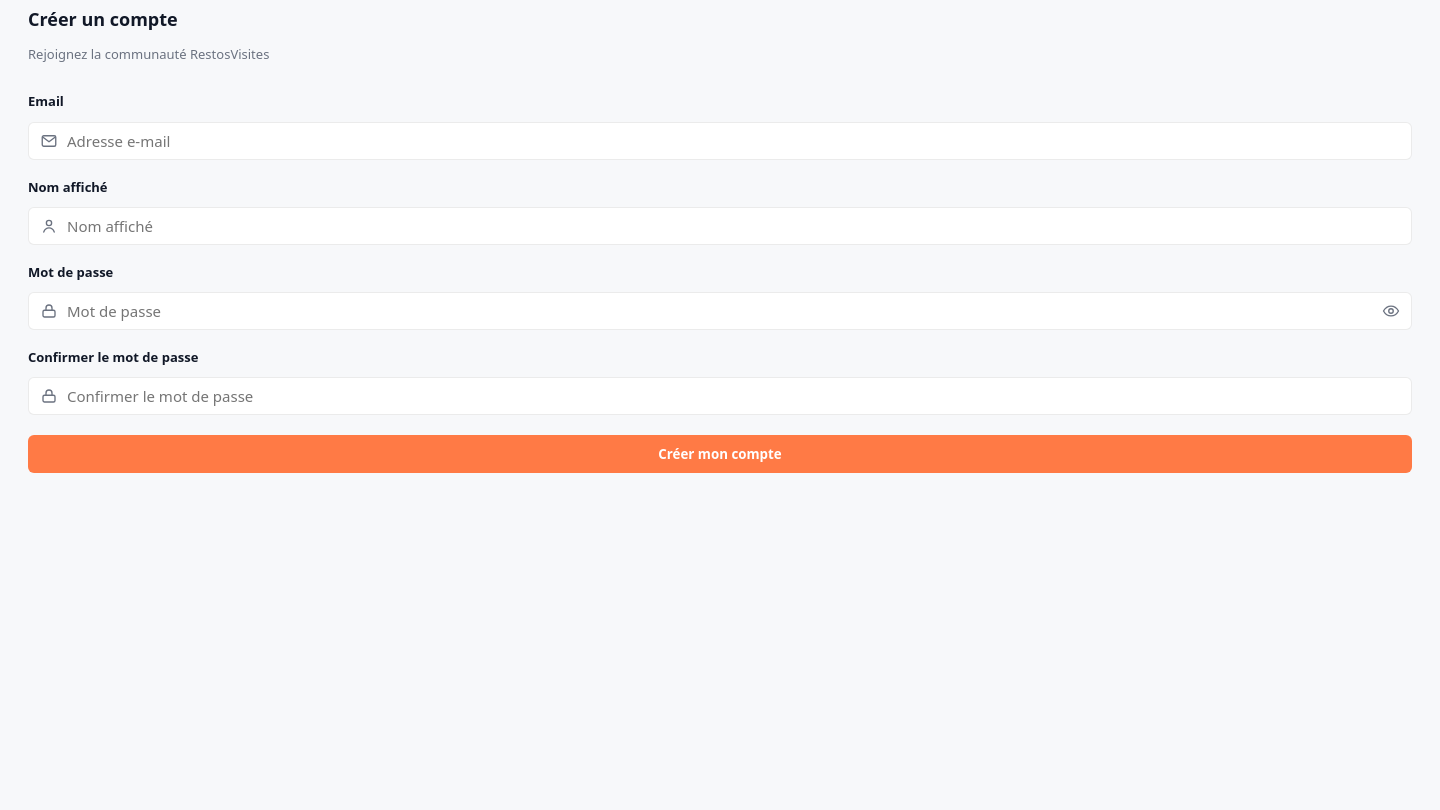
Test: RegisterPage › affiche les règles de mot de passe non respectées en direct
Type "court" into the password field labelled "Mot de passe" at (720, 311), box x1=28 y1=292 x2=1412 y2=330
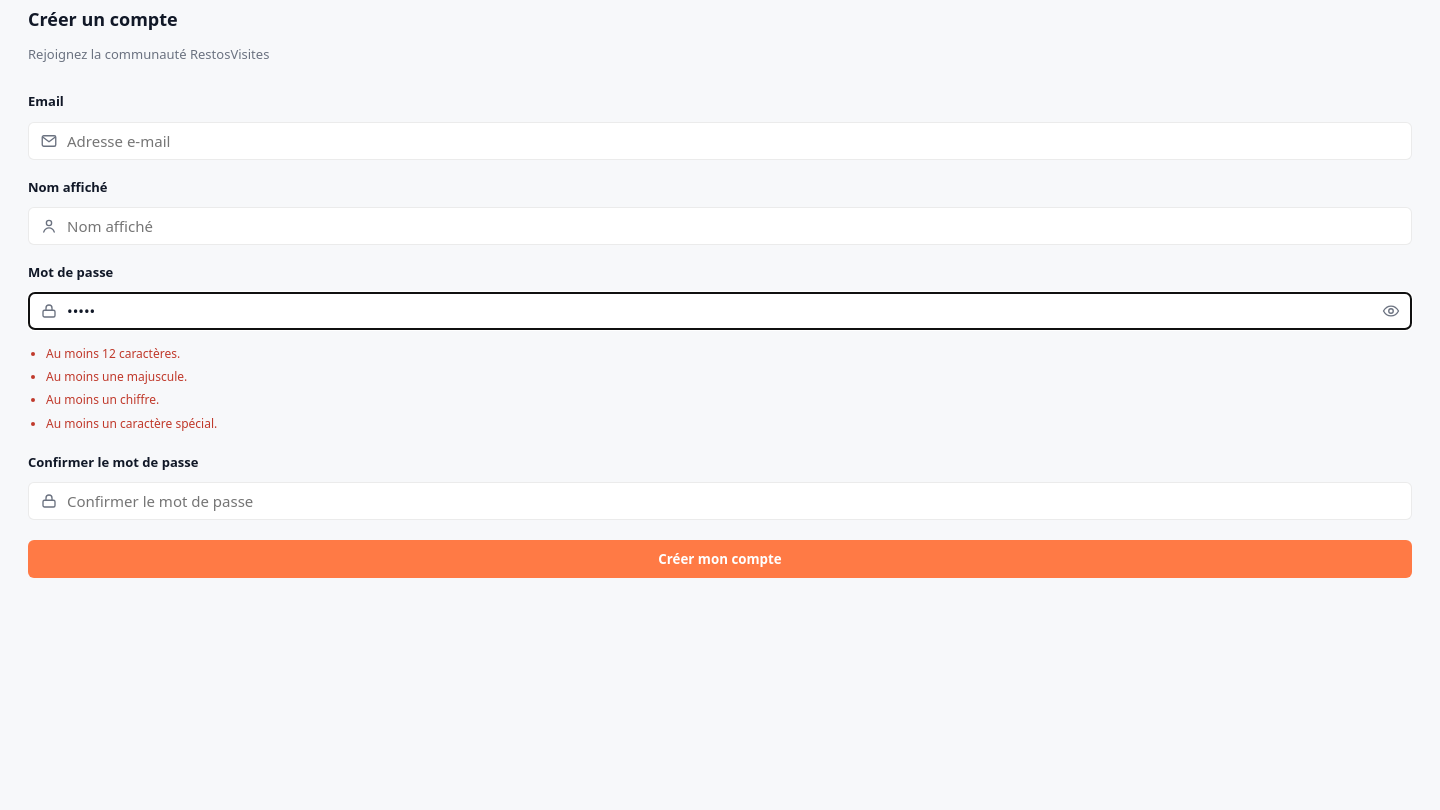
Expected: the list item "Au moins 12 caractères." is shown, x1=46 y1=345 x2=180 y2=362
Expected: the list item "Au moins une majuscule." is shown, x1=46 y1=368 x2=187 y2=385
Expected: the list item "Au moins un chiffre." is shown, x1=46 y1=391 x2=159 y2=408
